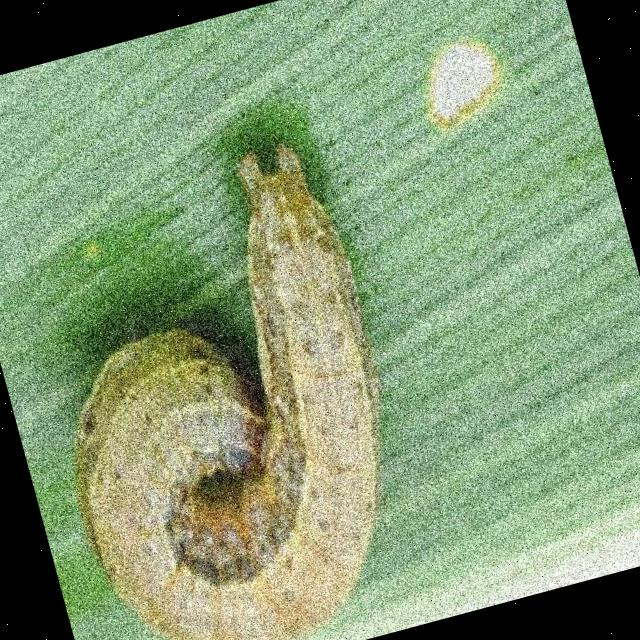worm: (2, 131, 447, 640)
